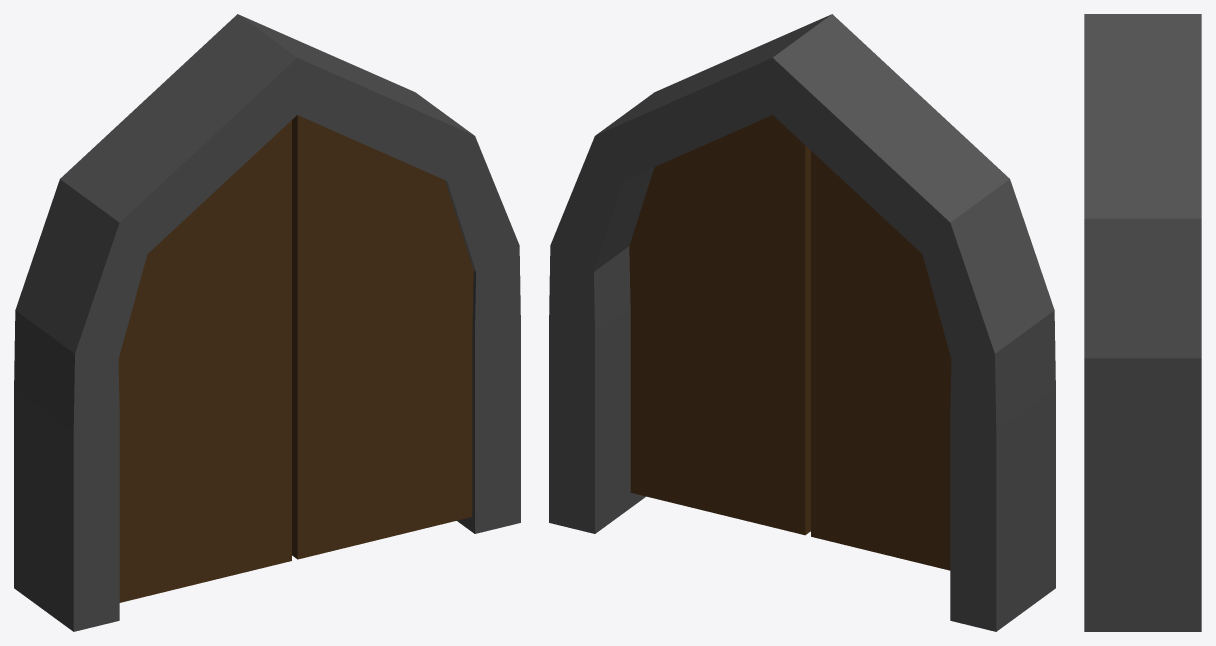
The model's file is Gate.glb.
The picture shows the model from 3 angles, left to right: view 1: azimuth 30°, elevation 25°; view 2: azimuth 150°, elevation 25°; view 3: azimuth 270°, elevation 25°; orthographic projection.
Parts seen in each view (by area): view 1: Rim, DoorR, DoorL; view 2: Rim, DoorR, DoorL; view 3: Rim.
Part boxes in pixels (<box>): Rim: <box>14,14,520,631</box>; DoorR: <box>292,115,473,559</box>; DoorL: <box>118,120,291,602</box>; Rim: <box>549,14,1055,631</box>; DoorR: <box>629,115,810,535</box>; DoorL: <box>811,151,951,570</box>; Rim: <box>1084,14,1201,631</box>.
Bounding box in the file's own units: 13.23 × 14.69 × 3.06.
